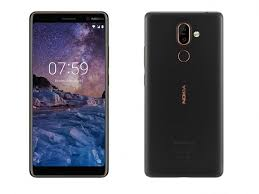nokia: (27, 8, 110, 181), (142, 8, 225, 181)
